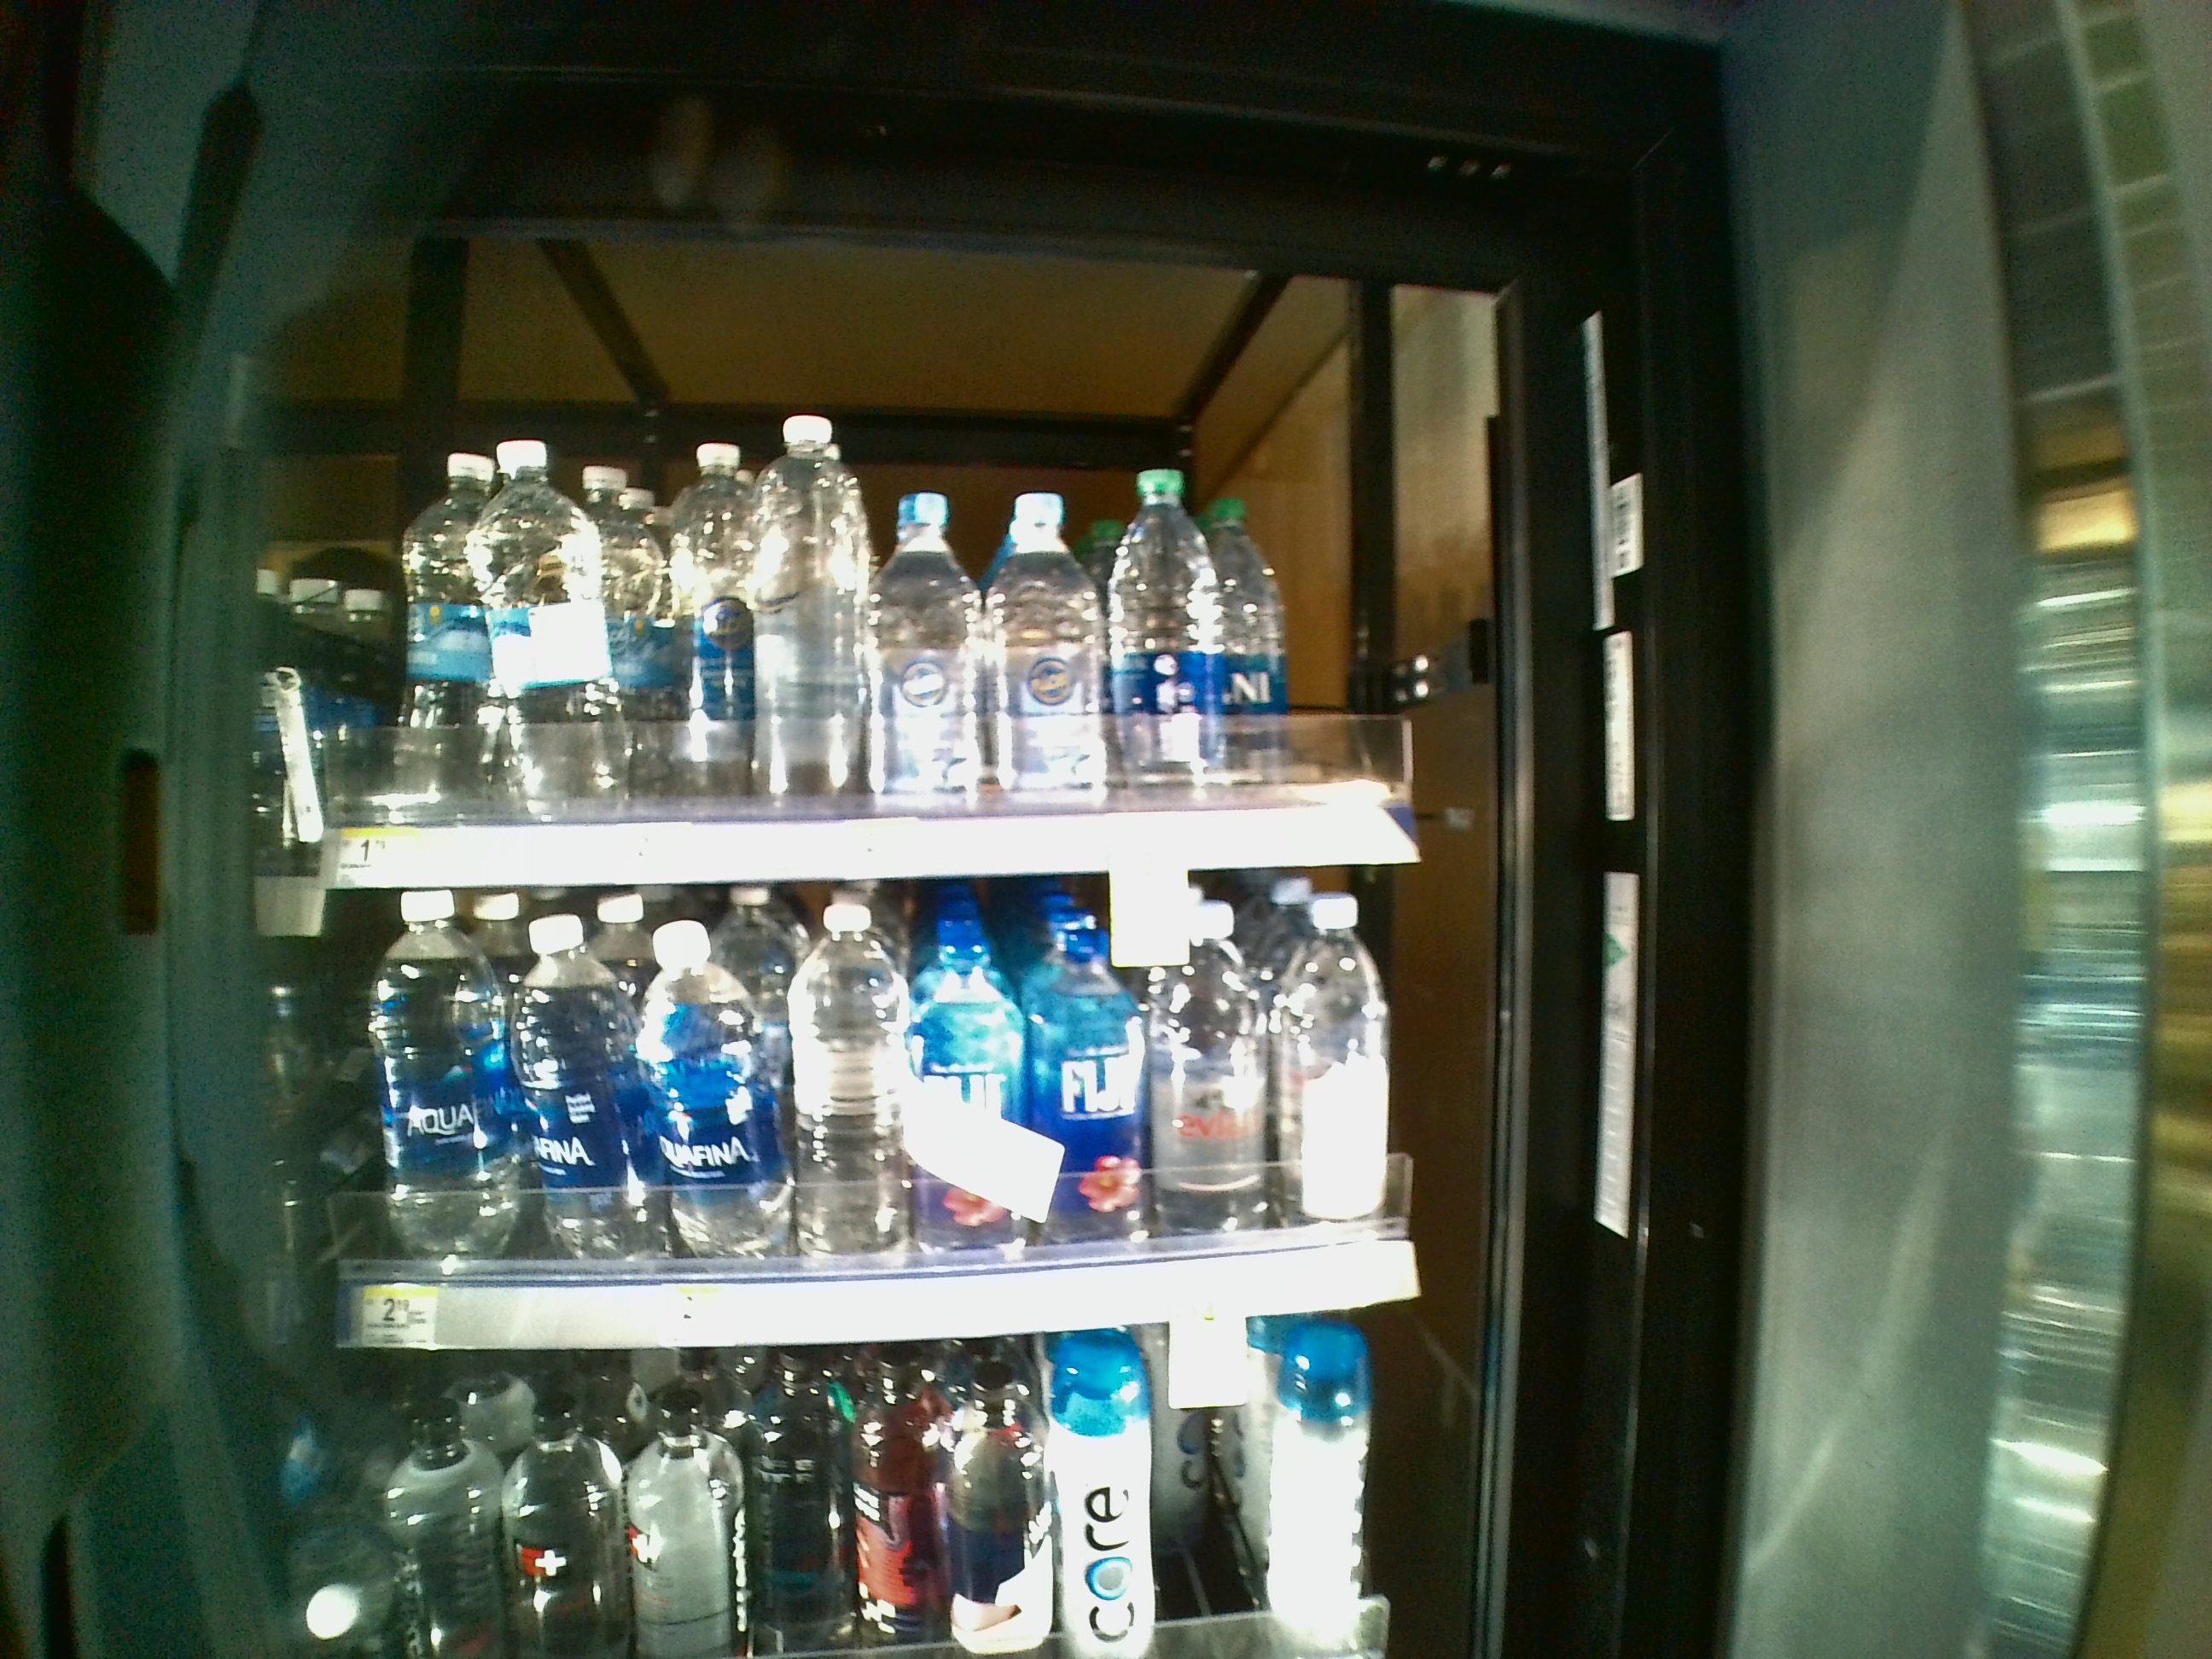shelf: (254, 355, 1420, 887), (254, 882, 1435, 1356)
